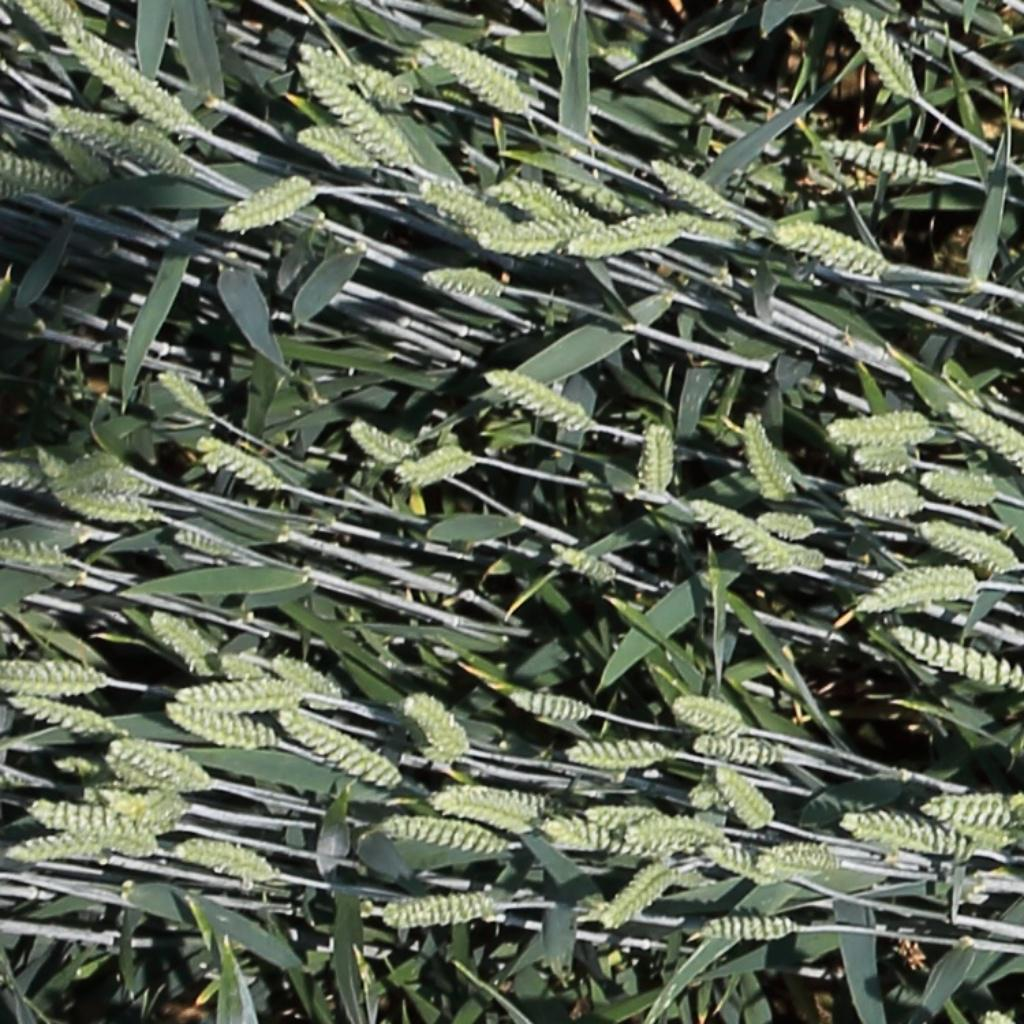0-0: (55, 23, 202, 135), (272, 708, 404, 796), (47, 103, 189, 181), (294, 66, 409, 162), (42, 447, 165, 529), (423, 39, 543, 123), (567, 209, 735, 264), (24, 797, 162, 860), (889, 626, 1024, 689), (841, 1, 920, 103), (690, 498, 790, 575), (775, 216, 891, 282), (486, 368, 597, 435), (852, 563, 978, 620), (294, 40, 405, 102), (215, 175, 322, 238), (0, 457, 165, 497), (107, 734, 218, 788), (649, 157, 738, 224), (46, 449, 150, 506), (946, 400, 1024, 475), (490, 178, 598, 232), (172, 831, 285, 882), (376, 816, 511, 858), (599, 858, 675, 931), (737, 408, 794, 505), (915, 520, 1018, 573), (540, 818, 673, 859), (381, 887, 502, 931), (428, 783, 550, 826), (839, 816, 970, 856), (465, 217, 580, 262), (162, 705, 275, 750), (827, 137, 935, 184), (825, 407, 940, 448), (94, 782, 196, 828), (269, 655, 354, 710), (101, 749, 209, 792), (398, 693, 466, 761), (709, 763, 773, 835), (46, 124, 113, 191), (0, 660, 109, 701), (173, 676, 299, 711), (296, 125, 383, 175), (6, 697, 112, 738), (419, 178, 505, 228), (196, 438, 278, 490), (544, 163, 629, 212), (560, 737, 678, 772), (144, 610, 210, 669), (836, 479, 928, 519), (627, 818, 738, 851), (670, 691, 748, 736), (691, 732, 797, 765), (919, 471, 1008, 510), (640, 415, 676, 509), (4, 834, 116, 864), (395, 447, 474, 488), (51, 748, 121, 794), (914, 792, 1024, 820), (2, 534, 70, 577), (938, 815, 1022, 849), (700, 846, 774, 884), (0, 151, 72, 189), (345, 420, 408, 462), (546, 544, 615, 582), (423, 267, 512, 296), (505, 690, 589, 719), (761, 840, 843, 869), (157, 373, 212, 415), (700, 917, 795, 941), (573, 803, 669, 825), (170, 528, 234, 559), (755, 512, 815, 543), (851, 446, 914, 474), (684, 776, 724, 820), (23, 0, 72, 34), (769, 545, 828, 573)
